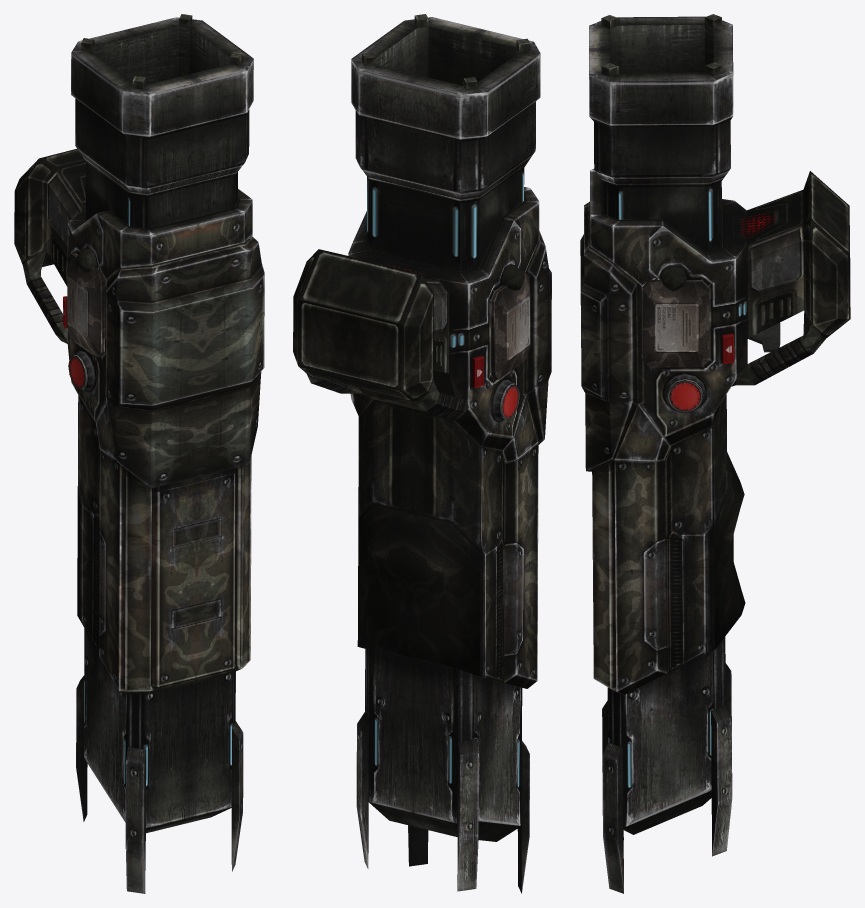
Rendered from rocket-launcher_mesh.obj.
The picture shows the model from 3 angles, left to right: view 1: azimuth 30°, elevation 25°; view 2: azimuth 150°, elevation 25°; view 3: azimuth 270°, elevation 25°; orthographic projection. The views are drawn at different scales.
Parts seen in each view (by area): view 1: launcher_trunk, launcher_body, launcher_clips_cover, launcher_monitor_left, launcher_rotator; view 2: launcher_body, launcher_trunk, launcher_clips_cover, launcher_monitor_left, launcher_rotator; view 3: launcher_body, launcher_trunk, launcher_clips_cover, launcher_monitor_right, launcher_rotator, launcher_fire_button.
Boxes of the visible parts, x1=… form: launcher_trunk: x1=71, y1=14, x2=253, y2=893; launcher_body: x1=14, y1=149, x2=252, y2=694; launcher_clips_cover: x1=105, y1=237, x2=264, y2=488; launcher_monitor_left: x1=67, y1=248, x2=105, y2=357; launcher_rotator: x1=68, y1=350, x2=95, y2=390; launcher_body: x1=293, y1=187, x2=539, y2=688; launcher_trunk: x1=351, y1=14, x2=540, y2=893; launcher_clips_cover: x1=526, y1=231, x2=551, y2=444; launcher_monitor_left: x1=490, y1=265, x2=530, y2=379; launcher_rotator: x1=492, y1=379, x2=519, y2=420; launcher_body: x1=590, y1=169, x2=850, y2=695; launcher_trunk: x1=589, y1=14, x2=733, y2=893; launcher_clips_cover: x1=580, y1=201, x2=638, y2=471; launcher_monitor_right: x1=642, y1=265, x2=709, y2=367; launcher_rotator: x1=664, y1=373, x2=705, y2=412; launcher_fire_button: x1=748, y1=322, x2=780, y2=352.
Bounding box in the file's own units: 0.2386 × 1.16 × 0.3439.
